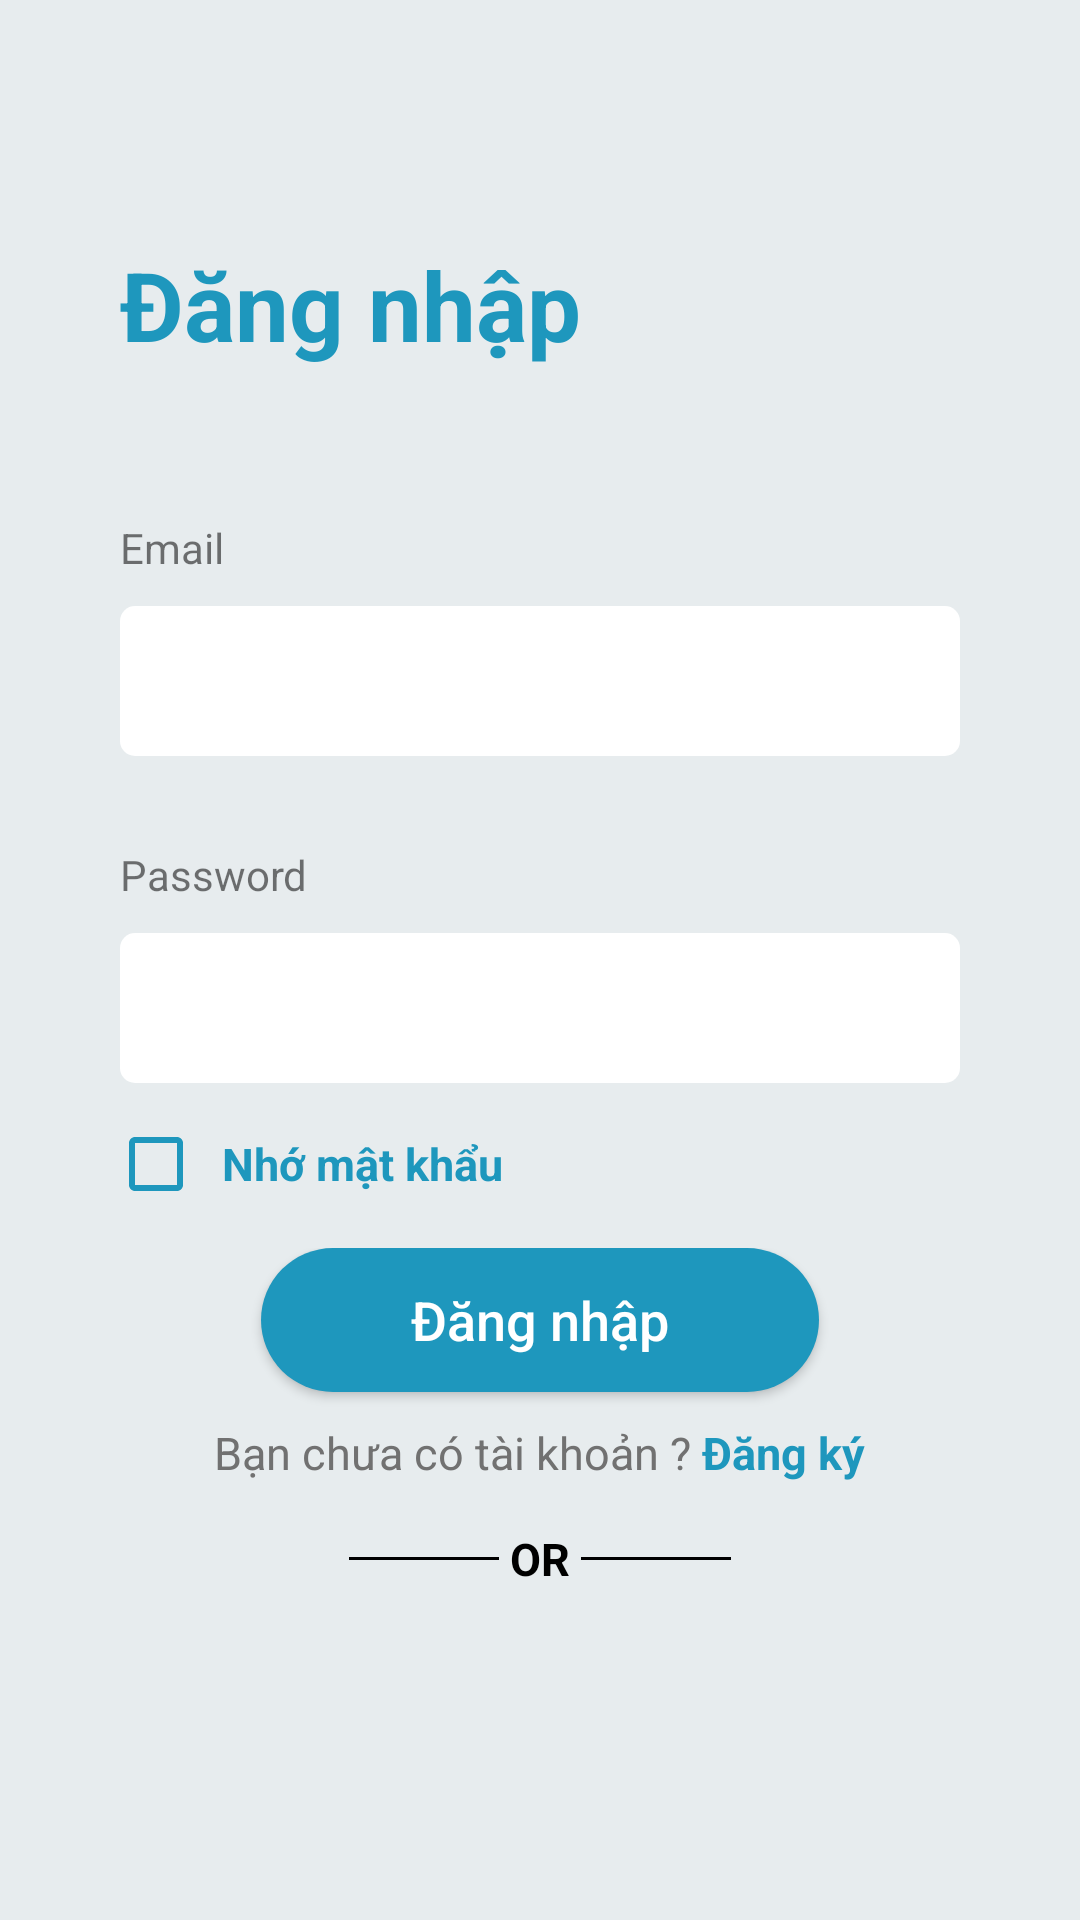

Icon click points for this 1080*1920 phone screenshot, format [x,y]:
checkbox: [156,1164]
